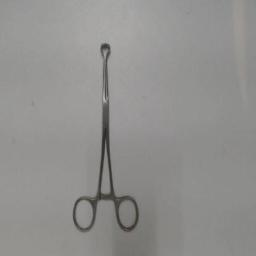Babcock Tissue Forceps: (71, 40, 141, 236)
